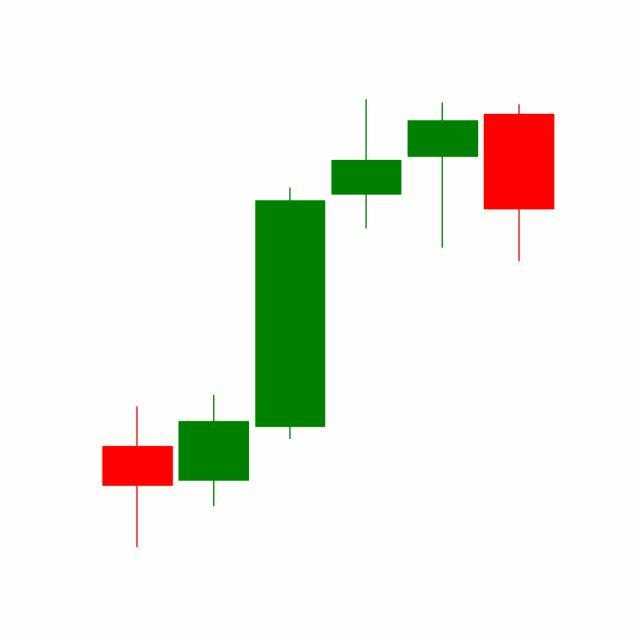Advance Block: (252, 100, 482, 445)
